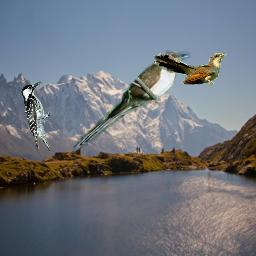Cuckoo: (71, 50, 193, 154), (154, 53, 227, 85)
Woodpecker: (21, 81, 50, 152)
